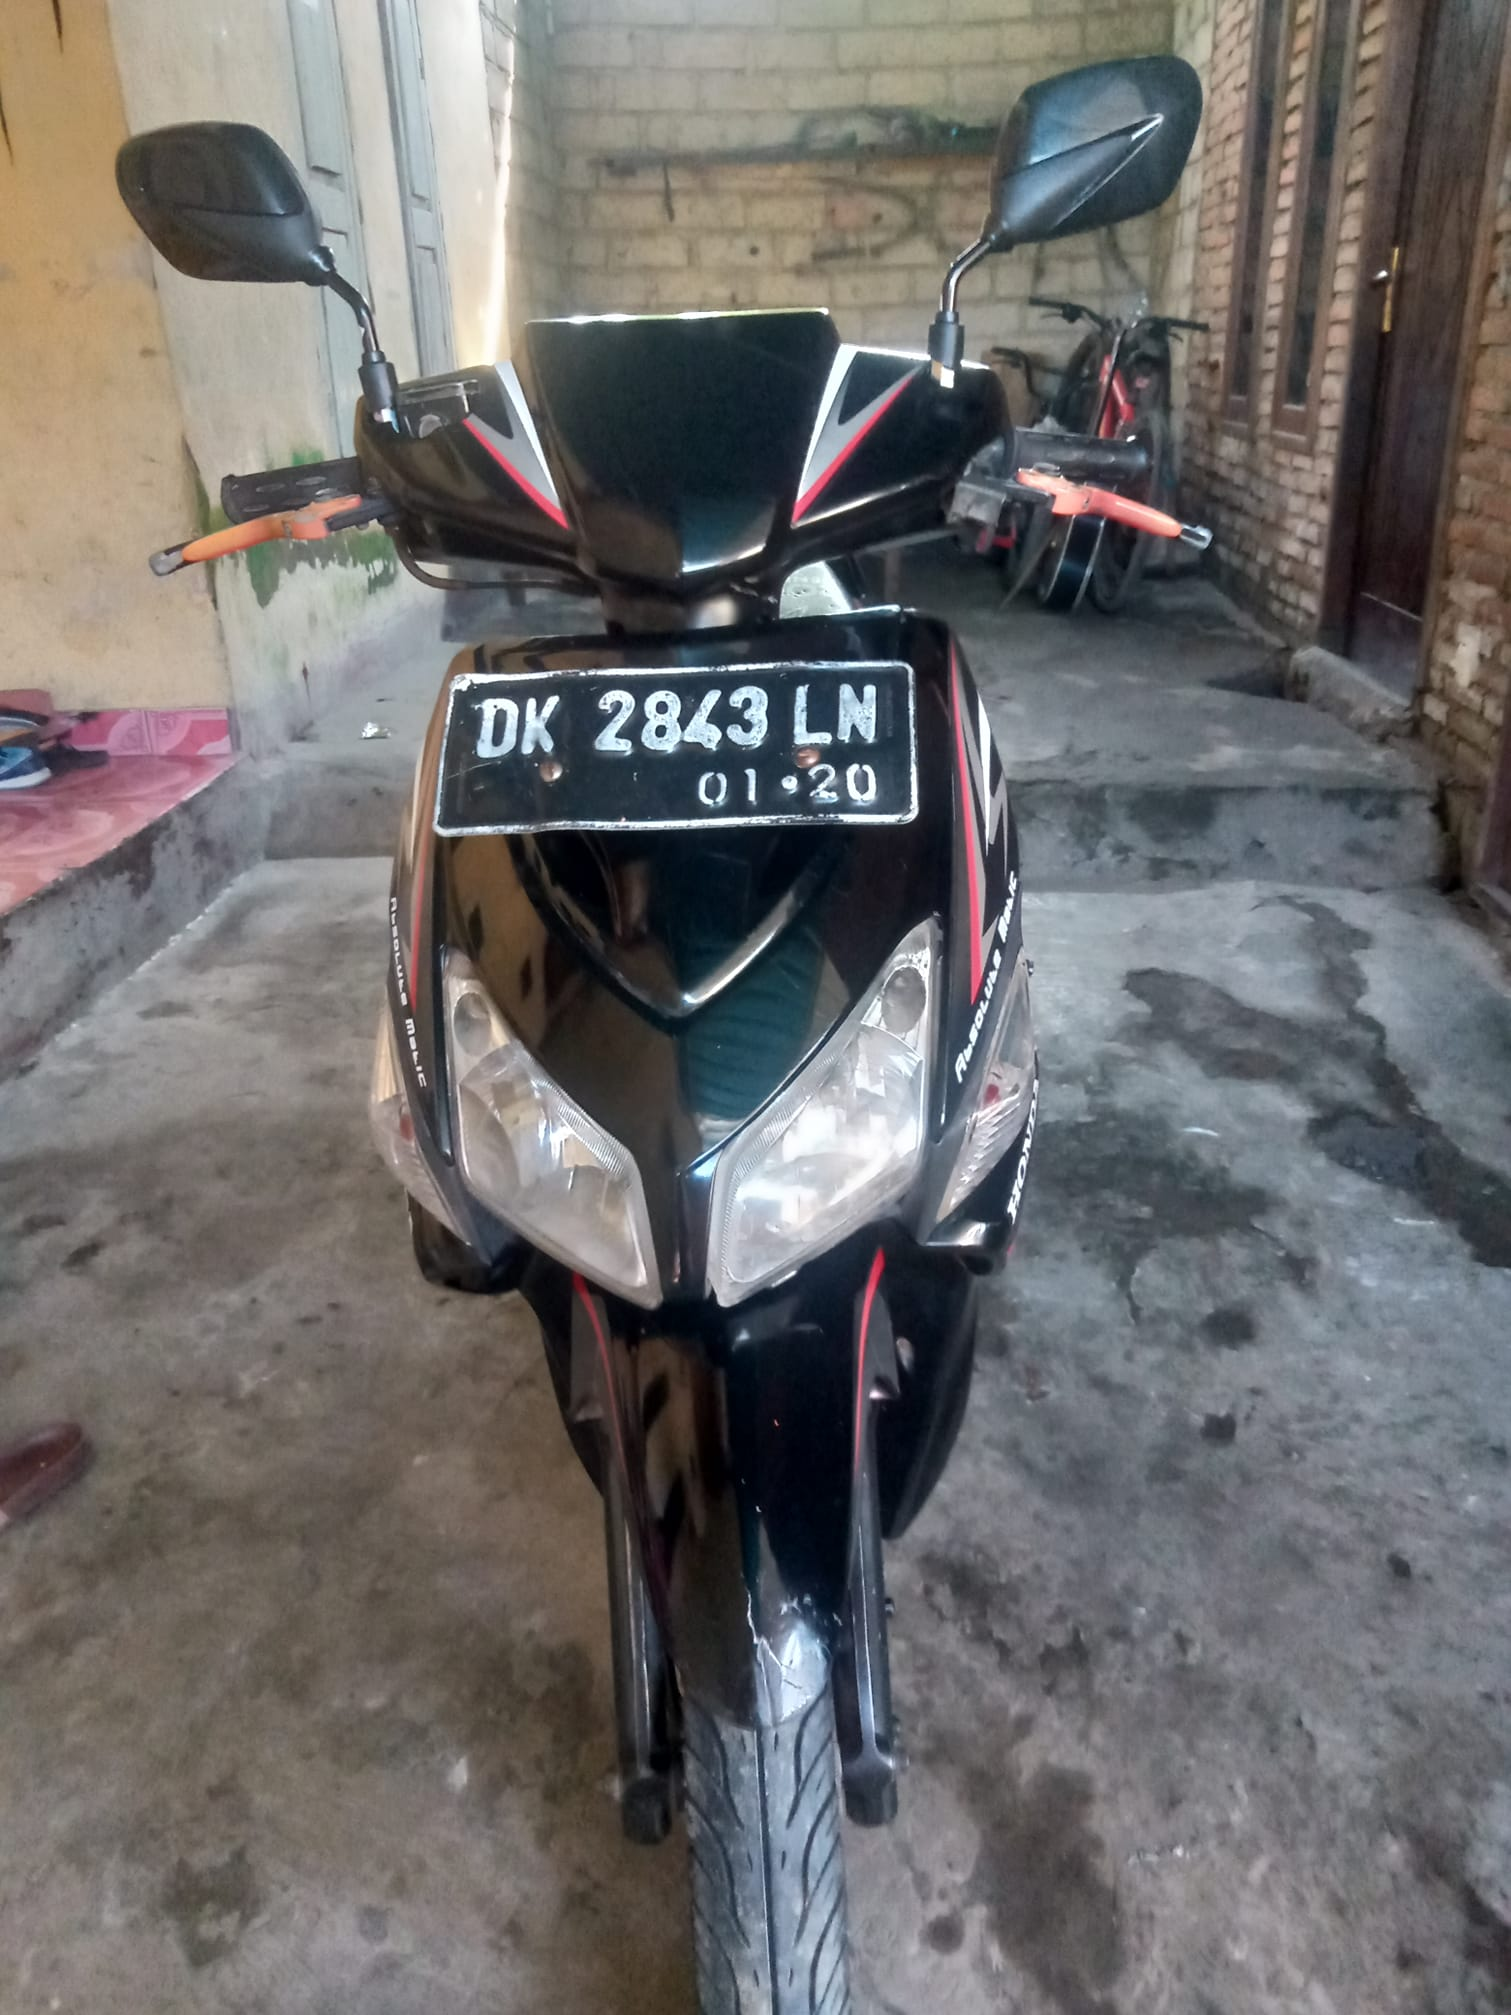plate: (435, 667, 923, 823)
